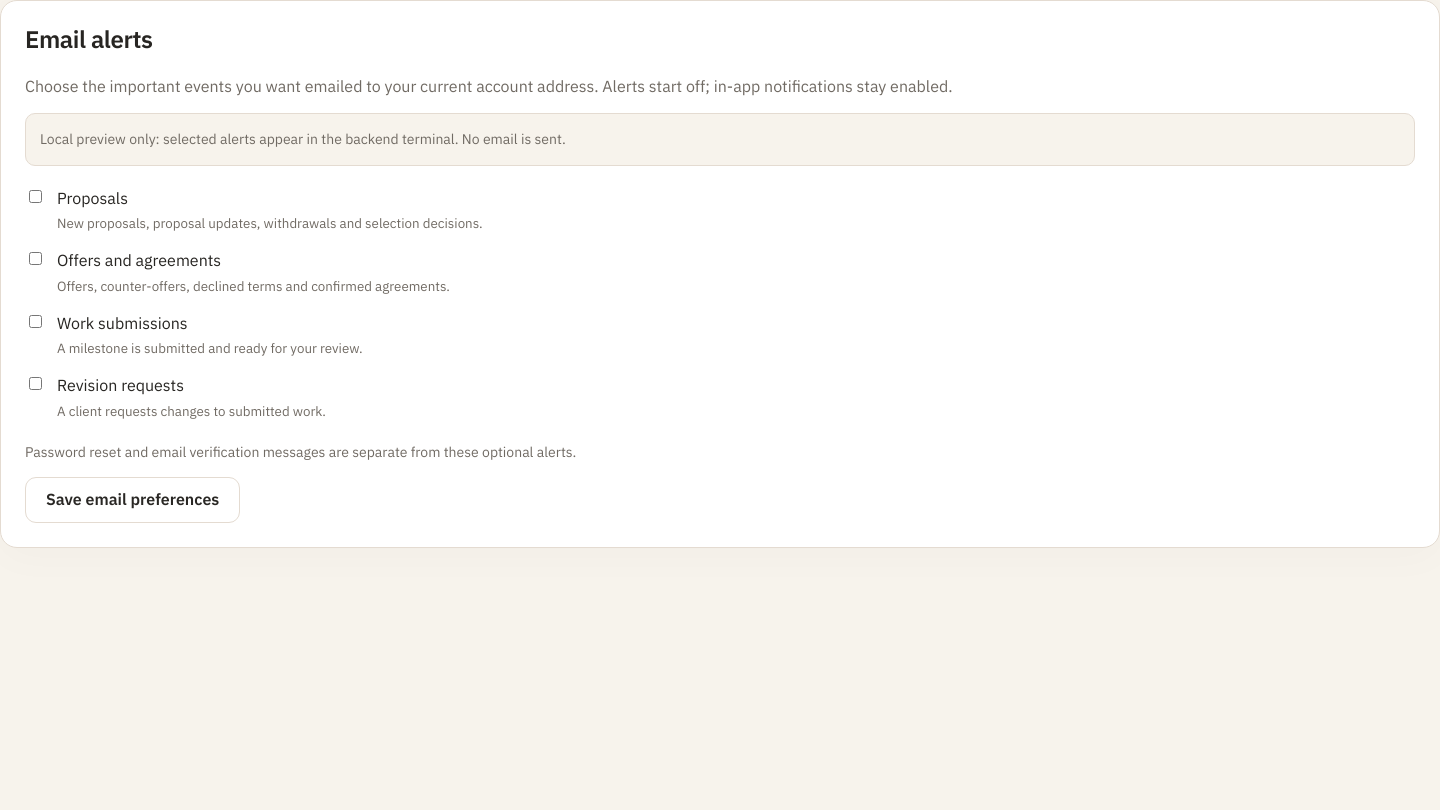
Scenario: a failed preference update preserves the choice without claiming it was saved
The width and height of the screenshot is (1440, 810).
Click the checkbox labelled "Revision requests".
click(36, 384)  # box [29,377,42,390]
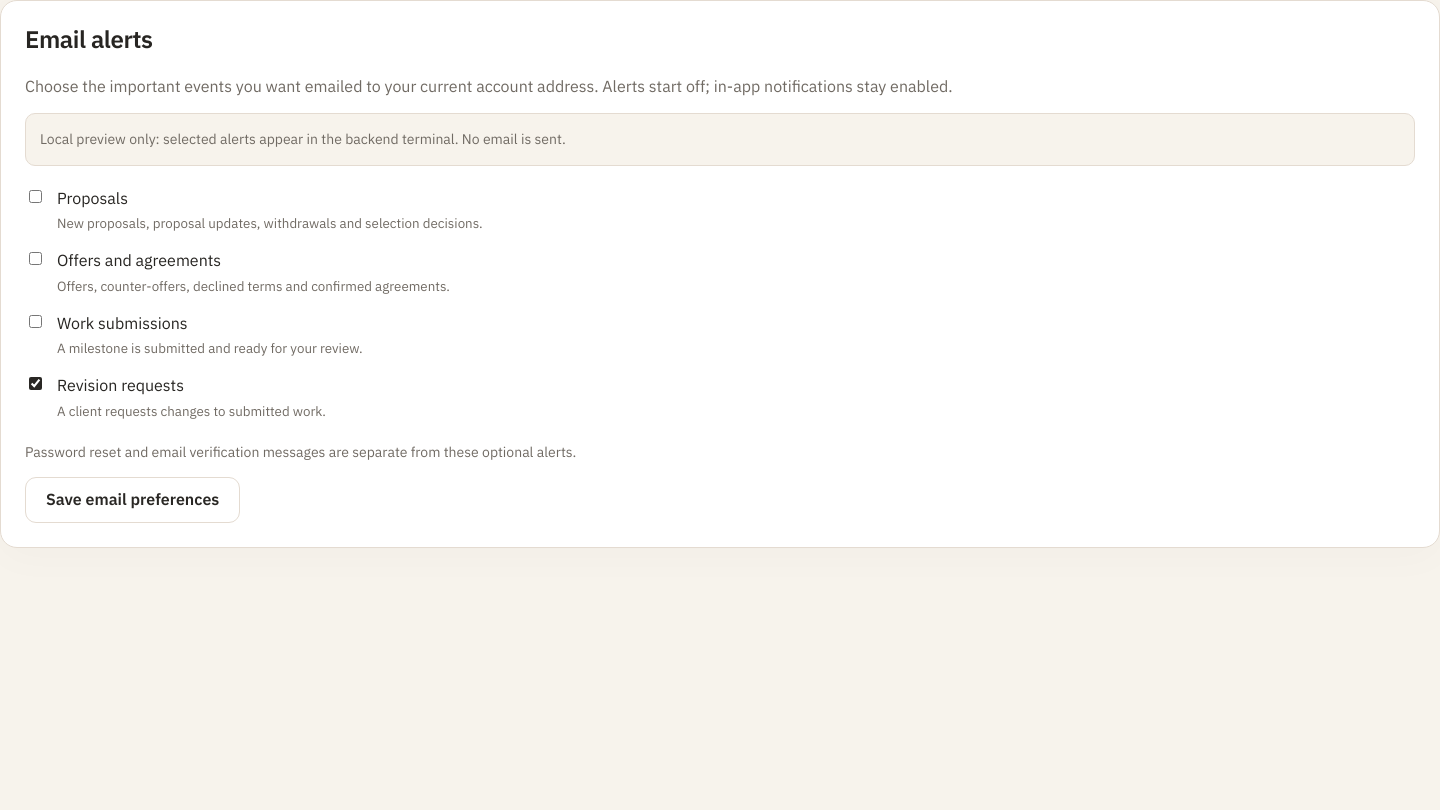
Click the button "Save email preferences".
click(133, 500)  # box [25,476,240,522]
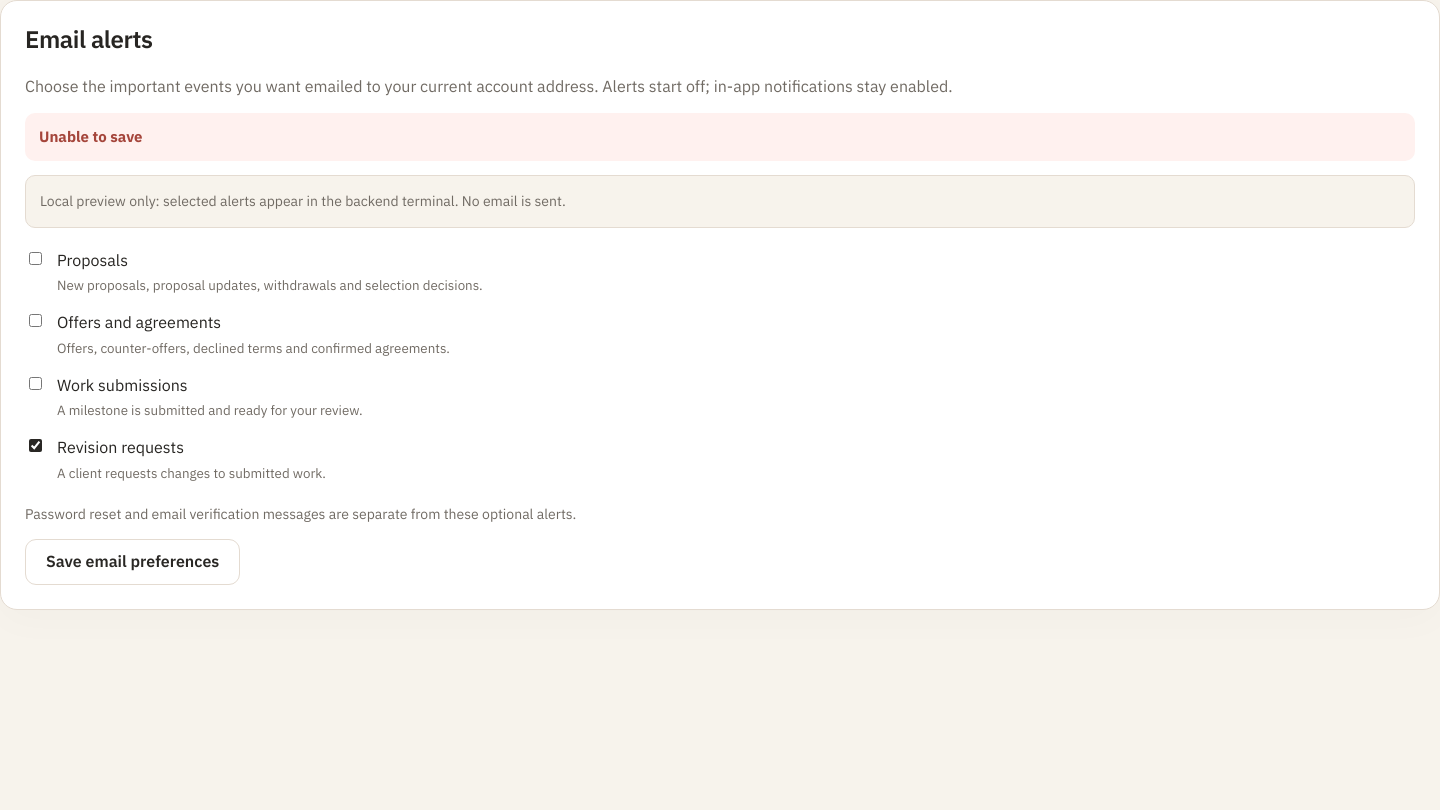
Check: the text "No email is sent" is shown, box [40,192,566,210]
Check: the checkbox labelled "Revision requests" is checked, box [29,439,42,452]
Check: the message reads "Unable to save", box [39,127,142,146]
